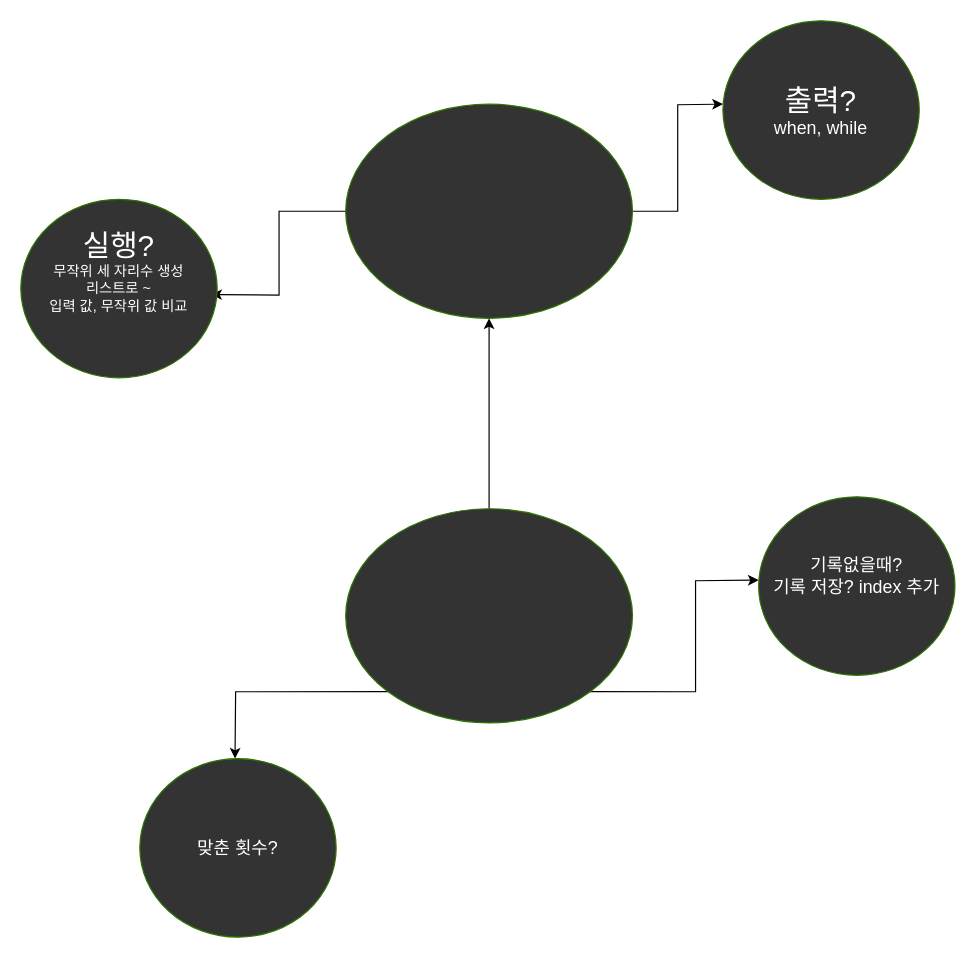
This 976x958 diagram has some shape labels left out. The shapes that lost their labels are listed below. From the top down, each one's box as (x1, y1, x2, y2) in pixels, then its label:
(345, 103, 632, 318): Main 게임 실행 및 출력
(345, 508, 632, 723): GameRecorder 기록 관련
